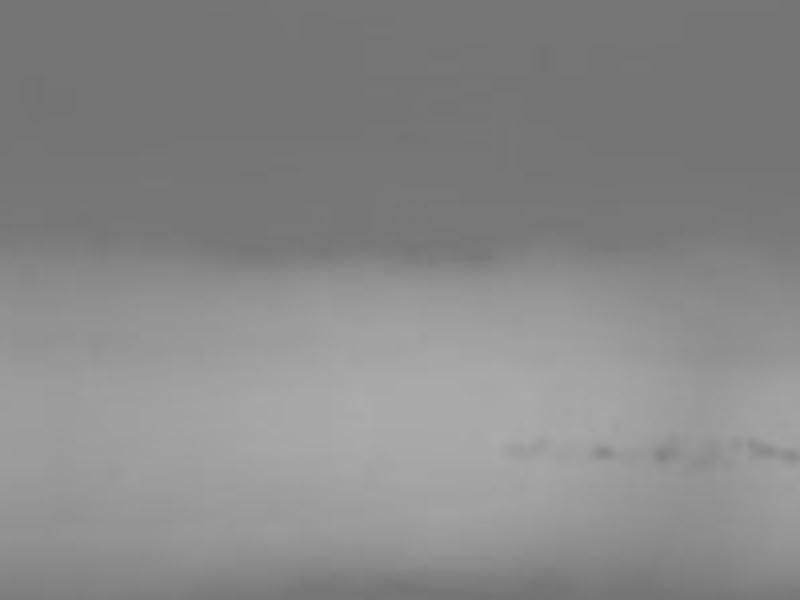defect: (687, 438, 723, 470), (651, 433, 682, 462), (750, 435, 777, 459), (523, 435, 551, 456), (590, 442, 617, 462), (501, 438, 522, 461), (778, 444, 798, 464), (733, 434, 749, 452)
